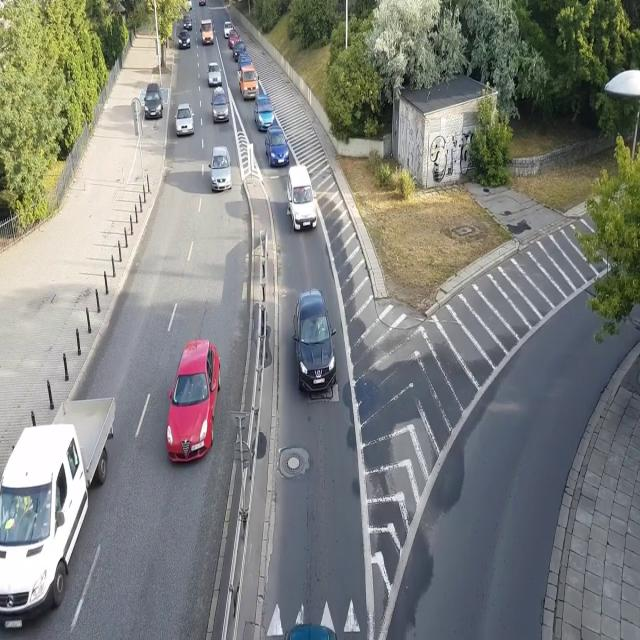car: (164, 338, 222, 464), (292, 287, 337, 395), (208, 146, 233, 192), (264, 127, 289, 167), (253, 92, 275, 130), (210, 86, 229, 124), (174, 102, 195, 136), (144, 83, 163, 120), (206, 63, 223, 86), (232, 41, 247, 60), (177, 31, 191, 48), (238, 54, 252, 70), (227, 30, 240, 47), (223, 20, 233, 37), (181, 14, 192, 29), (198, 0, 207, 6)
truck: (0, 396, 116, 633), (237, 66, 261, 100)
van: (286, 165, 318, 232), (200, 18, 214, 45)
